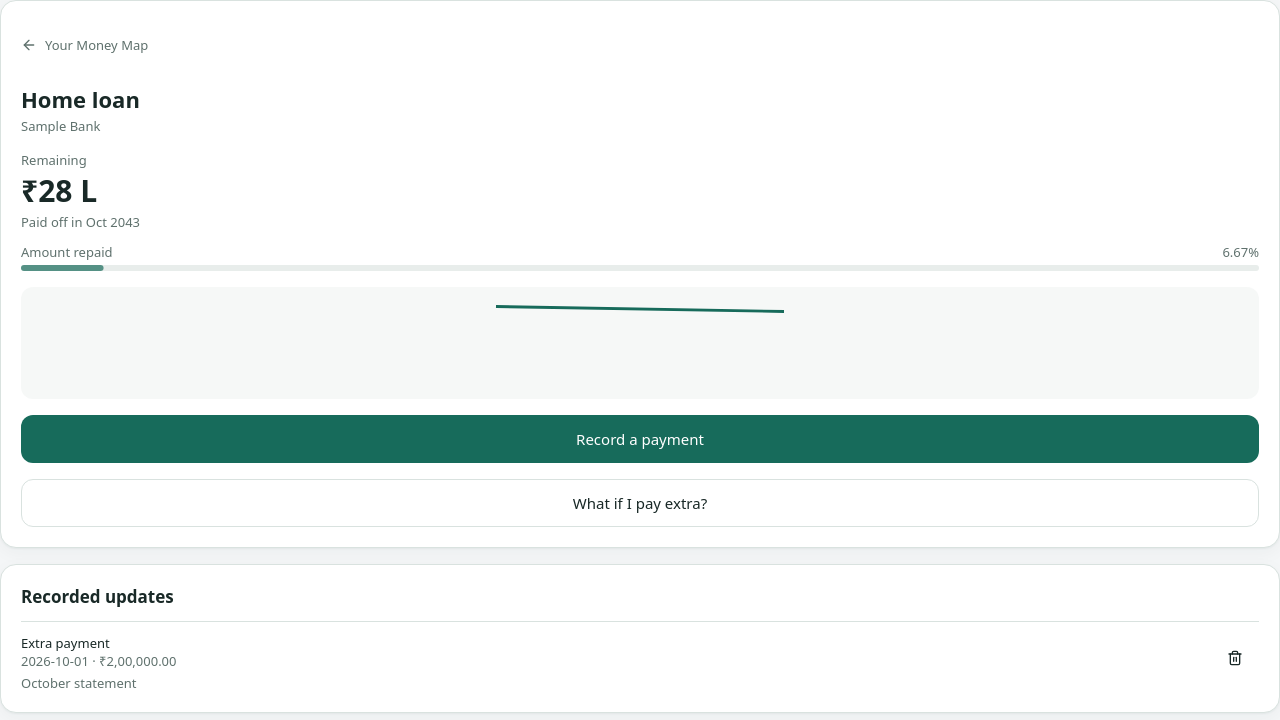
it: Loan detail › shows both server-calculated prepayment choices
Click the button "What if I pay extra?". click: (640, 503)
box: [21, 479, 1259, 527]
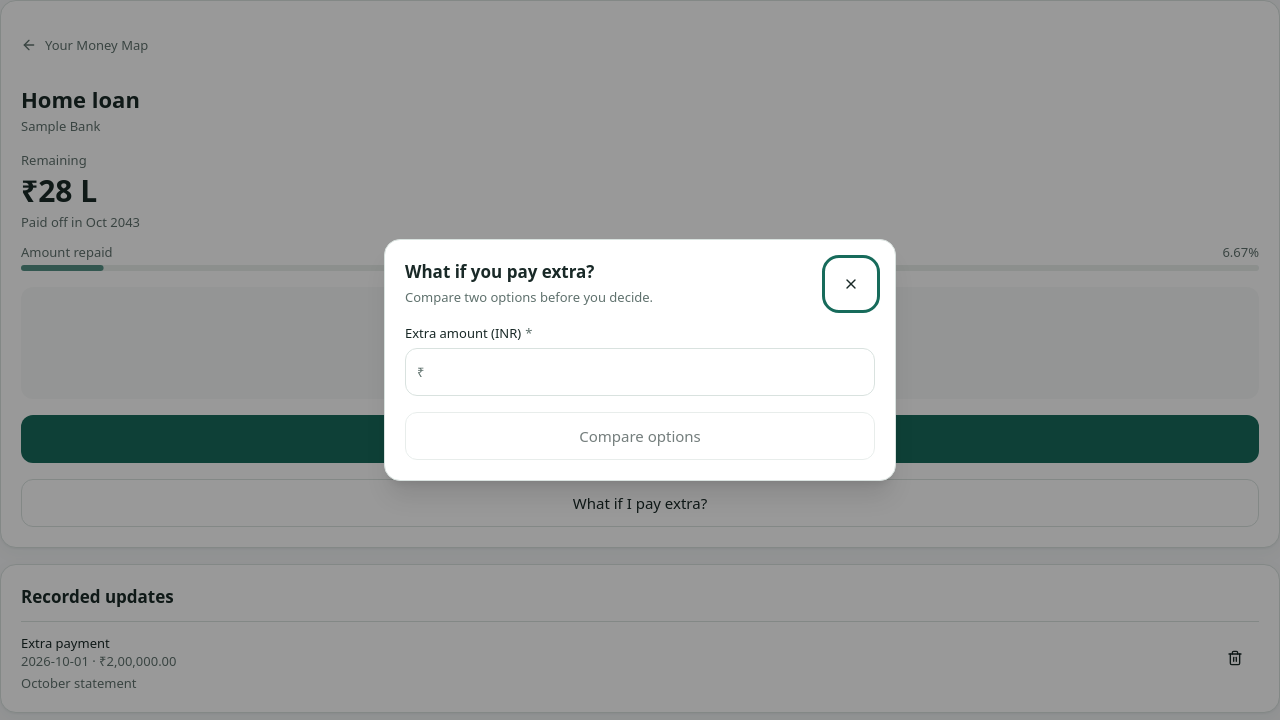
Type "200000" into the field labelled "Extra amount (INR)*". click: (640, 372)
box: [405, 348, 875, 396]
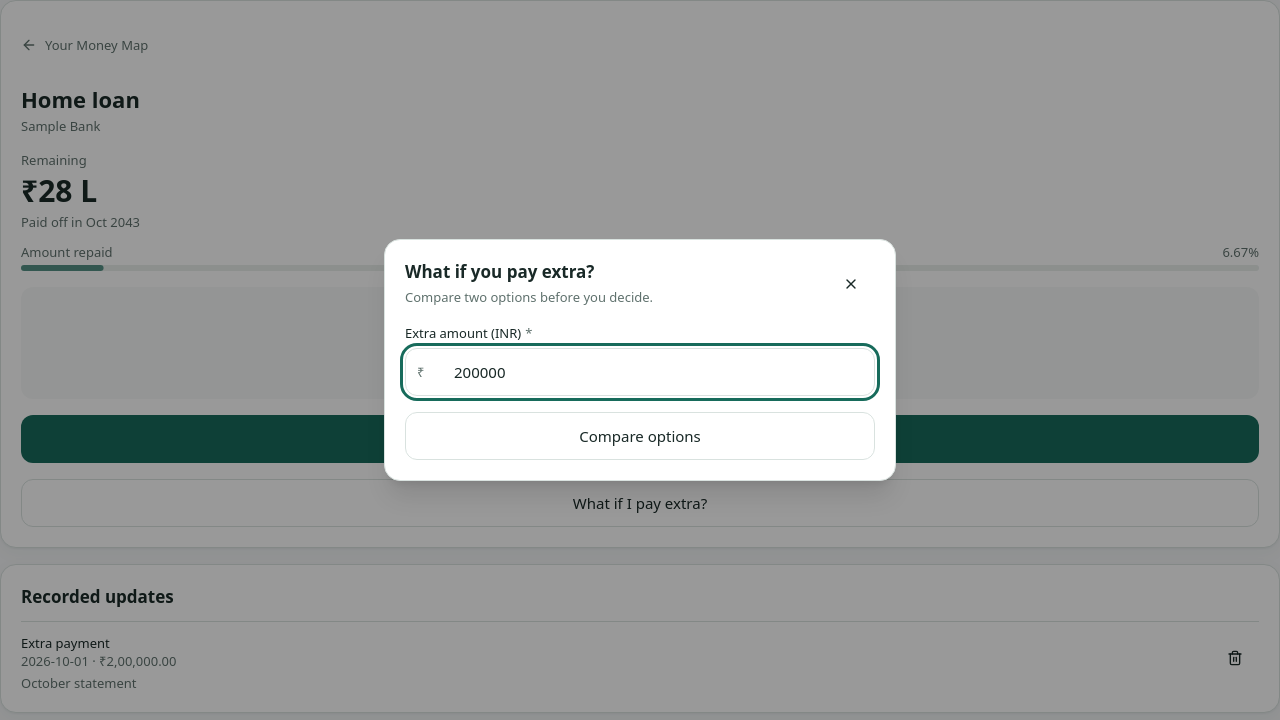
Click the button "Compare options". click: (640, 436)
box: [405, 412, 875, 460]
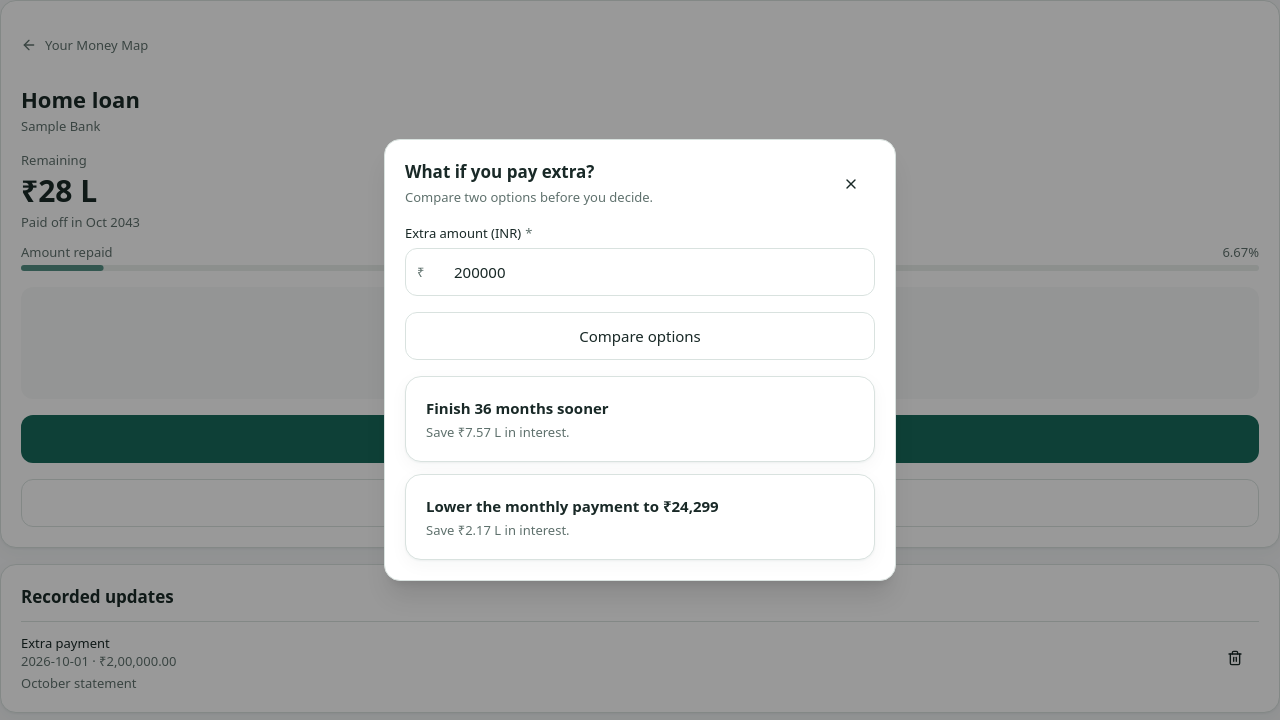
Check: the text "Finish 36 months sooner" is shown, box [426, 398, 609, 418]
